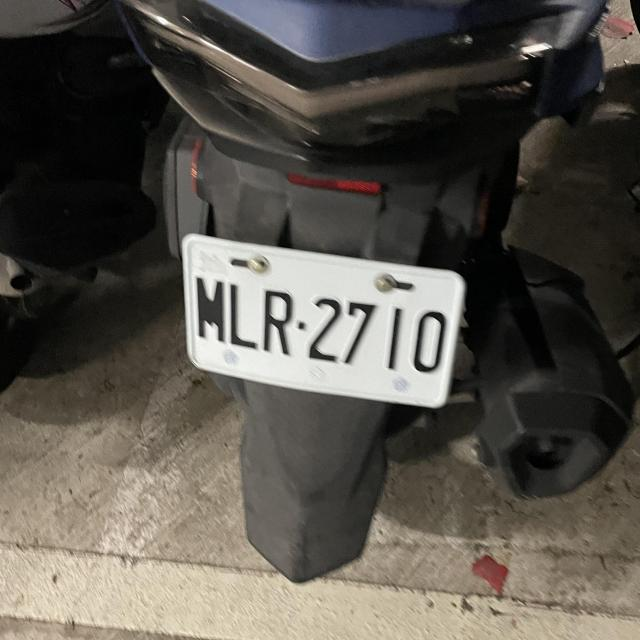W: (168, 228, 470, 412)
